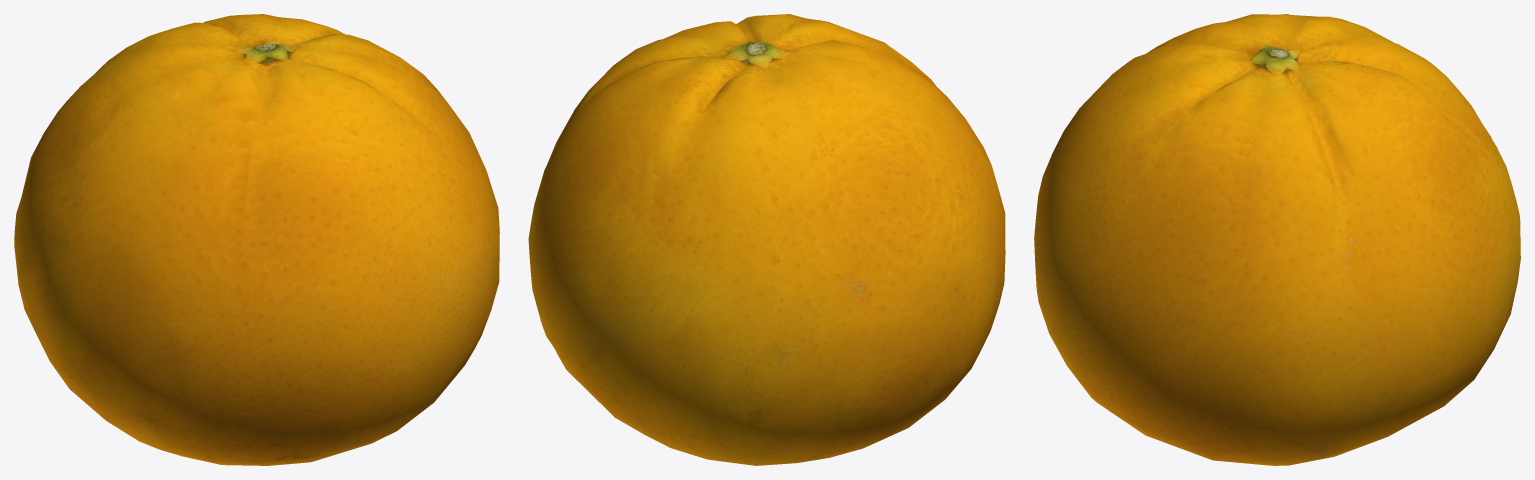
Rendered from egyptian_orange.glb.
3 renders of one model, left to right at view 1: azimuth 30°, elevation 25°; view 2: azimuth 150°, elevation 25°; view 3: azimuth 270°, elevation 25°, orthographic.
Visible parts, largest first — view 1: Object_2; view 2: Object_2; view 3: Object_2.
Boxes of the visible parts, x1,y1,x2,y2 form: Object_2: (14, 14, 499, 465); Object_2: (528, 14, 1005, 465); Object_2: (1034, 14, 1520, 465).
Bounding box in the file's own units: 0.0864 × 0.0758 × 0.0866.
1 material, 1 textured.
